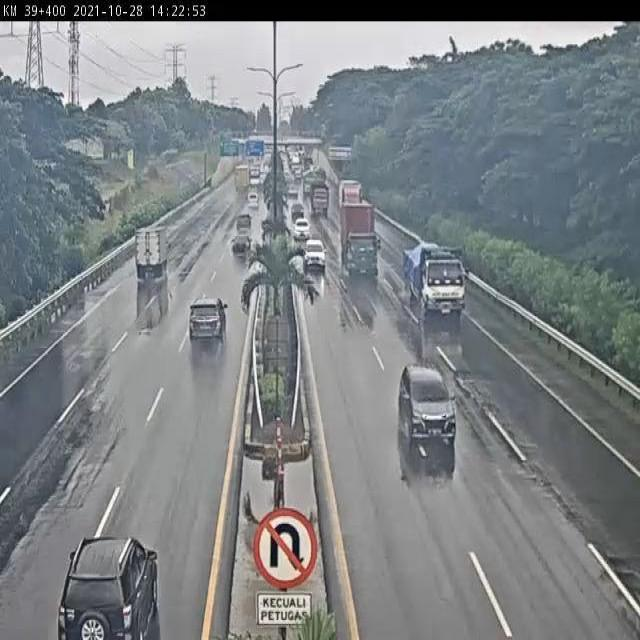car: (59, 534, 165, 640)
truck-l-: (405, 244, 466, 320)
truck-m-: (134, 224, 171, 279)
truck-xl-: (340, 202, 382, 282)
